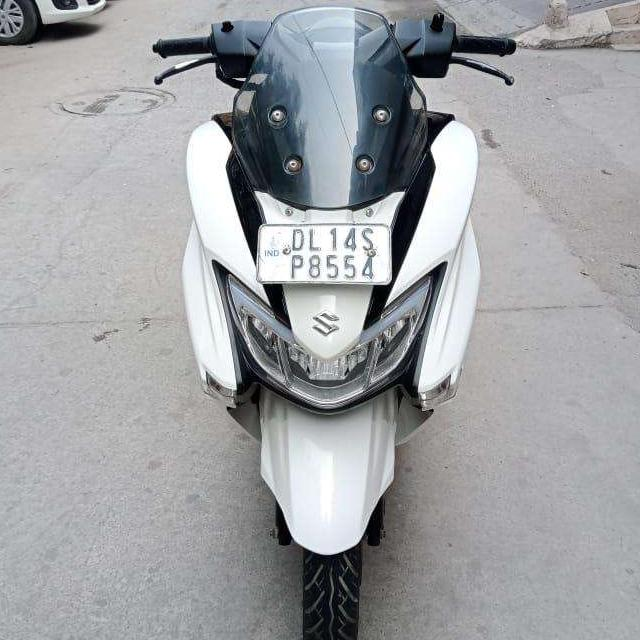Indian_Number_Plate: (259, 224, 390, 283)
